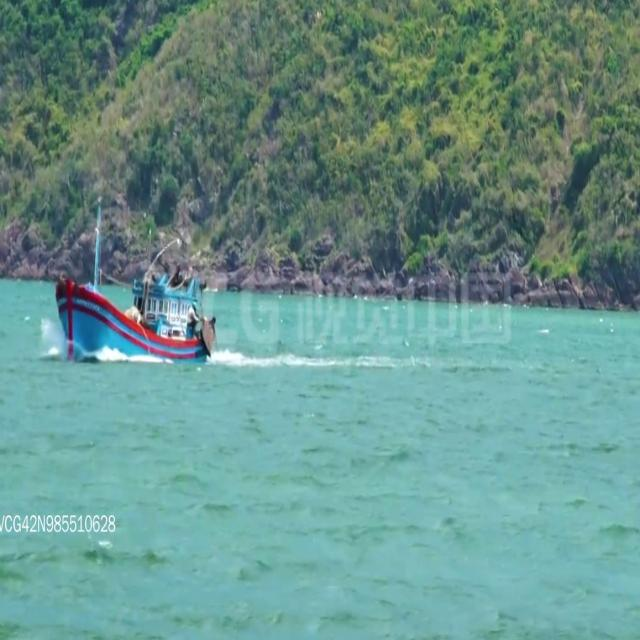fishing boat: (56, 193, 218, 364)
